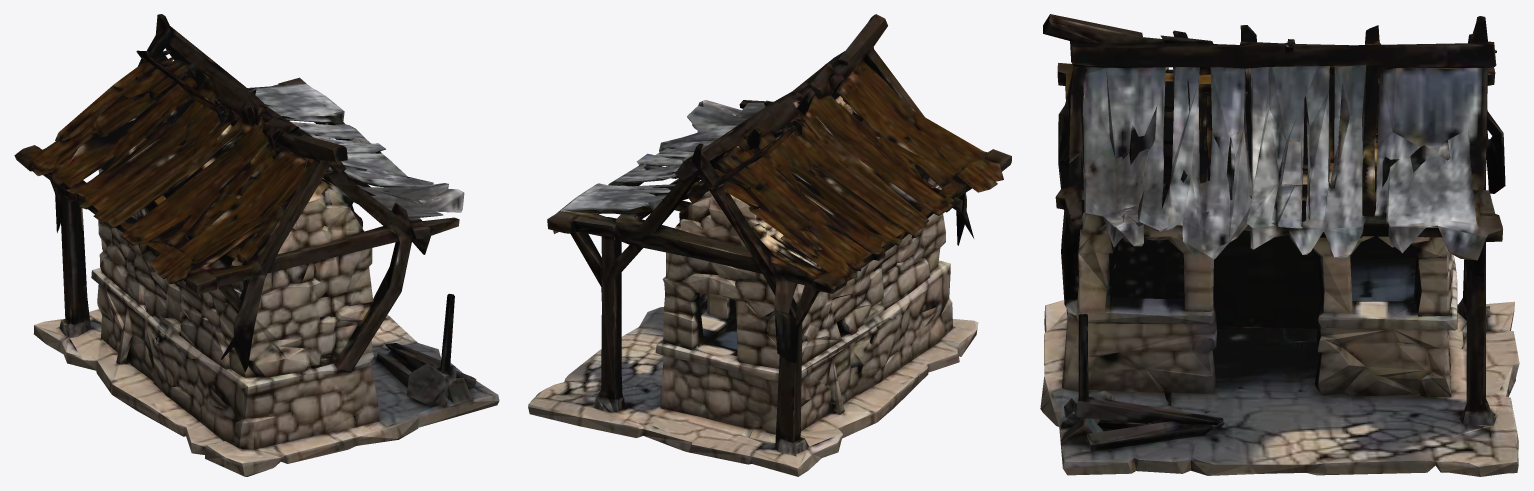
The model's file is war_market_stall_ruin_01.glb.
The picture shows the model from 3 angles, left to right: view 1: azimuth 30°, elevation 25°; view 2: azimuth 150°, elevation 25°; view 3: azimuth 270°, elevation 25°; orthographic projection. The views are drawn at different scales.
Visible parts, largest first — view 1: geometry_0; view 2: geometry_0; view 3: geometry_0.
Boxes of the visible parts, box(x1,y1,x2,y2) form: geometry_0: box(14, 14, 499, 476); geometry_0: box(528, 14, 1011, 476); geometry_0: box(1040, 14, 1519, 476).
Bounding box in the file's own units: 0.9117 × 0.8432 × 0.9964.
Materials: 1 (1 with a texture image).
